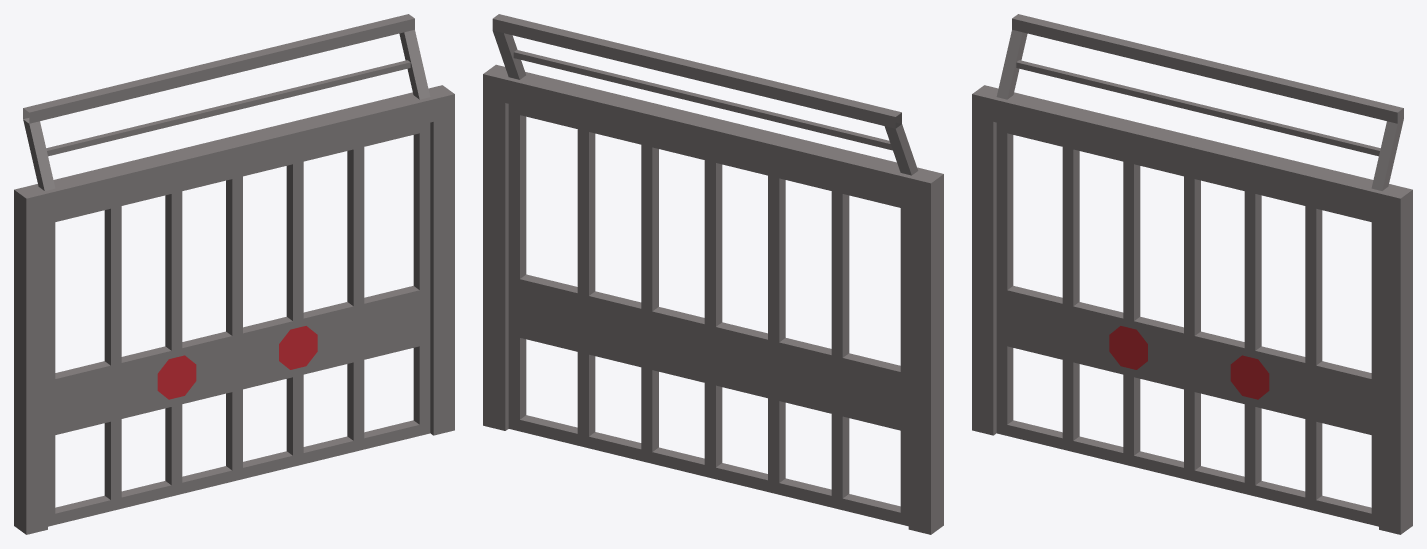
File: military_military-gate.fbx
3 renders of one model, left to right at view 1: azimuth 30°, elevation 25°; view 2: azimuth 150°, elevation 25°; view 3: azimuth 330°, elevation 25°, orthographic. The views are drawn at different scales.
Parts seen in each view (by area): view 1: military_gate_main, military_gate_frame; view 2: military_gate_main, military_gate_frame; view 3: military_gate_main, military_gate_frame.
Boxes of the visible parts, box(x1,y1,x2,y2) form: military_gate_main: box(48, 122, 430, 526); military_gate_frame: box(14, 14, 454, 534); military_gate_main: box(508, 104, 908, 526); military_gate_frame: box(483, 14, 943, 534); military_gate_main: box(996, 122, 1378, 526); military_gate_frame: box(972, 14, 1412, 534).
Bounding box in the file's own units: 200 × 180 × 20.
